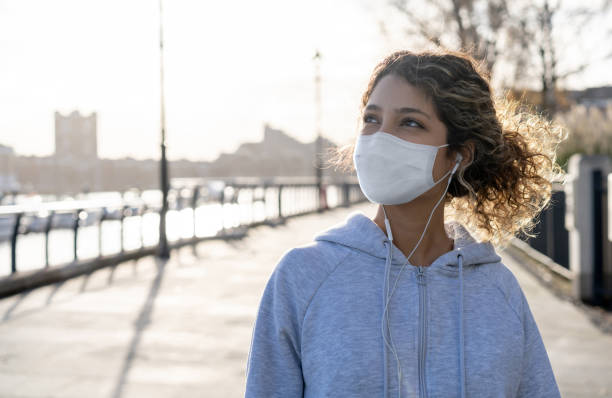with mask: (347, 68, 463, 208)
